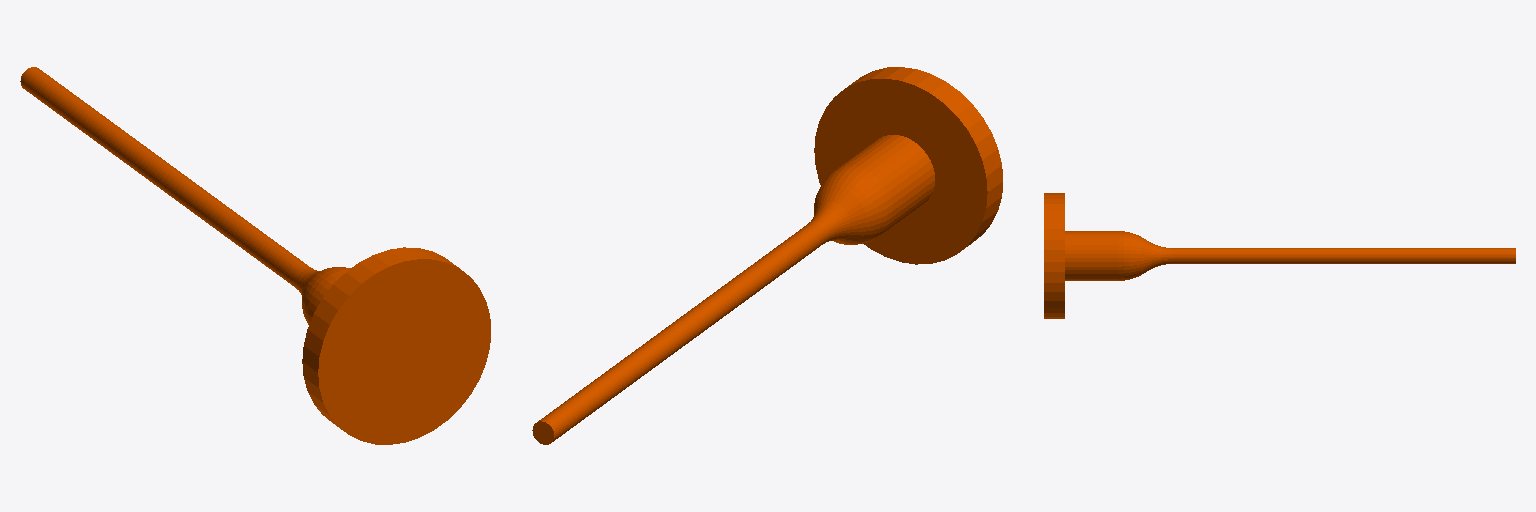
robot.urdf — ur:
<?xml version="1.0" ?>
<!-- =================================================================================== -->
<!-- |    This document was autogenerated by xacro from [local-path]/ros2_ws/install/ur_description/share/ur_description/urdf/ur.urdf.xacro | -->
<!-- |    EDITING THIS FILE BY HAND IS NOT RECOMMENDED                                 | -->
<!-- =================================================================================== -->
<robot name="ur">
  <!--
    Base UR robot series xacro macro.

    NOTE this is NOT a URDF. It cannot directly be loaded by consumers
    expecting a flattened '.urdf' file. See the top-level '.xacro' for that
    (but note that .xacro must still be processed by the xacro command).

    This file models the base kinematic chain of a UR robot, which then gets
    parameterised by various configuration files to convert it into a UR3(e),
    UR5(e), UR10(e) or UR16e.

    NOTE the default kinematic parameters (i.e., link lengths, frame locations,
    offsets, etc) do not correspond to any particular robot. They are defaults
    only. There WILL be non-zero offsets between the Forward Kinematics results
    in TF (i.e., robot_state_publisher) and the values reported by the Teach
    Pendant.

    For accurate (and robot-specific) transforms, the 'kinematics_parameters_file'
    parameter MUST point to a .yaml file containing the appropriate values for
    the targeted robot.

    If using the UniversalRobots/Universal_Robots_ROS_Driver, follow the steps
    described in the readme of that repository to extract the kinematic
    calibration from the controller and generate the required .yaml file.

    Main author of the migration to yaml configs [author].

    Contributors to previous versions (in no particular order)

     - [author]
     - [author]
     - [author]
     - [author]
     - [author]
     - [author]
     - [author]
     - [author]
     - [author]
     - [author]
     - [author]
     - [author]
     - [author]
     - [author]
     - [author]
     - [author]
     - [author]
     - [author]
     - [author]
  -->
  <!-- create link fixed to the "world" -->
  <link name="world"/>
  <!-- links -  main serial chain -->
  <link name="base_link"/>
  <link name="base_link_inertia">
    <visual>
      <origin rpy="0 0 3.141592653589793" xyz="0 0 0"/>
      <geometry>
        <mesh filename="package://ur_description/meshes/ur5e/visual/base.dae"/>
      </geometry>
    </visual>
    <collision>
      <origin rpy="0 0 3.141592653589793" xyz="0 0 0"/>
      <geometry>
        <mesh filename="package://ur_description/meshes/ur5e/collision/base.stl"/>
      </geometry>
    </collision>
    <inertial>
      <mass value="4.0"/>
      <origin rpy="0 0 0" xyz="0 0 0"/>
      <inertia ixx="0.00443333156" ixy="0.0" ixz="0.0" iyy="0.00443333156" iyz="0.0" izz="0.0072"/>
    </inertial>
  </link>
  <link name="shoulder_link">
    <visual>
      <origin rpy="0 0 3.141592653589793" xyz="0 0 0"/>
      <geometry>
        <mesh filename="package://ur_description/meshes/ur5e/visual/shoulder.dae"/>
      </geometry>
    </visual>
    <collision>
      <origin rpy="0 0 3.141592653589793" xyz="0 0 0"/>
      <geometry>
        <mesh filename="package://ur_description/meshes/ur5e/collision/shoulder.stl"/>
      </geometry>
    </collision>
    <inertial>
      <mass value="3.761"/>
      <origin rpy="0 0 0" xyz="0.0 -0.00193 -0.02561"/>
      <inertia ixx="0.010267499999999999" ixy="0" ixz="0" iyy="0.010267499999999999" iyz="0" izz="0.00666"/>
    </inertial>
  </link>
  <link name="upper_arm_link">
    <visual>
      <origin rpy="1.5707963267948966 0 -1.5707963267948966" xyz="0 0 0.138"/>
      <geometry>
        <mesh filename="package://ur_description/meshes/ur5e/visual/upperarm.dae"/>
      </geometry>
    </visual>
    <collision>
      <origin rpy="1.5707963267948966 0 -1.5707963267948966" xyz="0 0 0.138"/>
      <geometry>
        <mesh filename="package://ur_description/meshes/ur5e/collision/upperarm.stl"/>
      </geometry>
    </collision>
    <inertial>
      <mass value="8.058"/>
      <origin rpy="0 1.570796326794897 0" xyz="-0.2125 0.0 0.11336"/>
      <inertia ixx="0.13388583541666665" ixy="0" ixz="0" iyy="0.13388583541666665" iyz="0" izz="0.0151074"/>
    </inertial>
  </link>
  <link name="forearm_link">
    <visual>
      <origin rpy="1.5707963267948966 0 -1.5707963267948966" xyz="0 0 0.007"/>
      <geometry>
        <mesh filename="package://ur_description/meshes/ur5e/visual/forearm.dae"/>
      </geometry>
    </visual>
    <collision>
      <origin rpy="1.5707963267948966 0 -1.5707963267948966" xyz="0 0 0.007"/>
      <geometry>
        <mesh filename="package://ur_description/meshes/ur5e/collision/forearm.stl"/>
      </geometry>
    </collision>
    <inertial>
      <mass value="2.846"/>
      <origin rpy="0 1.570796326794897 0" xyz="-0.2422 0.0 0.0265"/>
      <inertia ixx="0.03120936758333333" ixy="0" ixz="0" iyy="0.03120936758333333" iyz="0" izz="0.004095"/>
    </inertial>
  </link>
  <link name="wrist_1_link">
    <visual>
      <origin rpy="1.5707963267948966 0 0" xyz="0 0 -0.127"/>
      <geometry>
        <mesh filename="package://ur_description/meshes/ur5e/visual/wrist1.dae"/>
      </geometry>
    </visual>
    <collision>
      <origin rpy="1.5707963267948966 0 0" xyz="0 0 -0.127"/>
      <geometry>
        <mesh filename="package://ur_description/meshes/ur5e/collision/wrist1.stl"/>
      </geometry>
    </collision>
    <inertial>
      <mass value="1.37"/>
      <origin rpy="0 0 0" xyz="0.0 -0.01634 -0.0018"/>
      <inertia ixx="0.0025599" ixy="0" ixz="0" iyy="0.0025599" iyz="0" izz="0.0021942"/>
    </inertial>
  </link>
  <link name="wrist_2_link">
    <visual>
      <origin rpy="0 0 0" xyz="0 0 -0.0997"/>
      <geometry>
        <mesh filename="package://ur_description/meshes/ur5e/visual/wrist2.dae"/>
      </geometry>
    </visual>
    <collision>
      <origin rpy="0 0 0" xyz="0 0 -0.0997"/>
      <geometry>
        <mesh filename="package://ur_description/meshes/ur5e/collision/wrist2.stl"/>
      </geometry>
    </collision>
    <inertial>
      <mass value="1.3"/>
      <origin rpy="0 0 0" xyz="0.0 0.01634 -0.0018"/>
      <inertia ixx="0.0025599" ixy="0" ixz="0" iyy="0.0025599" iyz="0" izz="0.0021942"/>
    </inertial>
  </link>
  <link name="wrist_3_link">
    <visual>
      <origin rpy="1.5707963267948966 0 0" xyz="0 0 -0.0989"/>
      <geometry>
        <mesh filename="package://ur_description/meshes/ur5e/visual/wrist3.dae"/>
      </geometry>
    </visual>
    <collision>
      <origin rpy="1.5707963267948966 0 0" xyz="0 0 -0.0989"/>
      <geometry>
        <mesh filename="package://ur_description/meshes/ur5e/collision/wrist3.stl"/>
      </geometry>
    </collision>
    <inertial>
      <mass value="0.365"/>
      <origin rpy="0 0 0" xyz="0.0 0.0 -0.001159"/>
      <inertia ixx="9.890414008333333e-05" ixy="0" ixz="0" iyy="9.890414008333333e-05" iyz="0" izz="0.0001321171875"/>
    </inertial>
  </link>
  <!-- base_joint fixes base_link to the environment -->
  <joint name="base_joint" type="fixed">
    <origin rpy="0 0 0" xyz="0 0 0"/>
    <parent link="world"/>
    <child link="base_link"/>
  </joint>
  <!-- joints - main serial chain -->
  <joint name="base_link-base_link_inertia" type="fixed">
    <parent link="base_link"/>
    <child link="base_link_inertia"/>
    <!-- 'base_link' is REP-103 aligned (so X+ forward), while the internal
           frames of the robot/controller have X+ pointing backwards.
           Use the joint between 'base_link' and 'base_link_inertia' (a dummy
           link/frame) to introduce the necessary rotation over Z (of pi rad).
      -->
    <origin rpy="0 0 3.141592653589793" xyz="0 0 0"/>
  </joint>
  <joint name="shoulder_pan_joint" type="revolute">
    <parent link="base_link_inertia"/>
    <child link="shoulder_link"/>
    <origin rpy="0 0 0" xyz="0 0 0.1625"/>
    <axis xyz="0 0 1"/>
    <limit effort="150.0" lower="-6.283185307179586" upper="6.283185307179586" velocity="3.141592653589793"/>
    <safety_controller k_position="20" k_velocity="0.0" soft_lower_limit="-6.133185307179586" soft_upper_limit="6.133185307179586"/>
    <dynamics damping="0" friction="0"/>
  </joint>
  <joint name="shoulder_lift_joint" type="revolute">
    <parent link="shoulder_link"/>
    <child link="upper_arm_link"/>
    <origin rpy="1.570796327 0 0" xyz="0 0 0"/>
    <axis xyz="0 0 1"/>
    <limit effort="150.0" lower="-6.283185307179586" upper="6.283185307179586" velocity="3.141592653589793"/>
    <safety_controller k_position="20" k_velocity="0.0" soft_lower_limit="-6.133185307179586" soft_upper_limit="6.133185307179586"/>
    <dynamics damping="0" friction="0"/>
  </joint>
  <joint name="elbow_joint" type="revolute">
    <parent link="upper_arm_link"/>
    <child link="forearm_link"/>
    <origin rpy="0 0 0" xyz="-0.425 0 0"/>
    <axis xyz="0 0 1"/>
    <limit effort="150.0" lower="-3.141592653589793" upper="3.141592653589793" velocity="3.141592653589793"/>
    <safety_controller k_position="20" k_velocity="0.0" soft_lower_limit="-2.991592653589793" soft_upper_limit="2.991592653589793"/>
    <dynamics damping="0" friction="0"/>
  </joint>
  <joint name="wrist_1_joint" type="revolute">
    <parent link="forearm_link"/>
    <child link="wrist_1_link"/>
    <origin rpy="0 0 0" xyz="-0.3922 0 0.1333"/>
    <axis xyz="0 0 1"/>
    <limit effort="28.0" lower="-6.283185307179586" upper="6.283185307179586" velocity="3.141592653589793"/>
    <safety_controller k_position="20" k_velocity="0.0" soft_lower_limit="-6.133185307179586" soft_upper_limit="6.133185307179586"/>
    <dynamics damping="0" friction="0"/>
  </joint>
  <joint name="wrist_2_joint" type="revolute">
    <parent link="wrist_1_link"/>
    <child link="wrist_2_link"/>
    <origin rpy="1.570796327 0 0" xyz="0 -0.0997 -2.044881182297852e-11"/>
    <axis xyz="0 0 1"/>
    <limit effort="28.0" lower="-6.283185307179586" upper="6.283185307179586" velocity="3.141592653589793"/>
    <safety_controller k_position="20" k_velocity="0.0" soft_lower_limit="-6.133185307179586" soft_upper_limit="6.133185307179586"/>
    <dynamics damping="0" friction="0"/>
  </joint>
  <joint name="wrist_3_joint" type="revolute">
    <parent link="wrist_2_link"/>
    <child link="wrist_3_link"/>
    <origin rpy="1.570796326589793 3.141592653589793 3.141592653589793" xyz="0 0.0996 -2.042830148012698e-11"/>
    <axis xyz="0 0 1"/>
    <limit effort="28.0" lower="-6.283185307179586" upper="6.283185307179586" velocity="3.141592653589793"/>
    <safety_controller k_position="20" k_velocity="0.0" soft_lower_limit="-6.133185307179586" soft_upper_limit="6.133185307179586"/>
    <dynamics damping="0" friction="0"/>
  </joint>
  <link name="ft_frame"/>
  <joint name="wrist_3_link-ft_frame" type="fixed">
    <parent link="wrist_3_link"/>
    <child link="ft_frame"/>
    <origin rpy="3.141592653589793 0 0" xyz="0 0 0"/>
  </joint>
  <!-- ROS-Industrial 'base' frame - base_link to UR 'Base' Coordinates transform -->
  <link name="base"/>
  <joint name="base_link-base_fixed_joint" type="fixed">
    <!-- Note the rotation over Z of pi radians - as base_link is REP-103
           aligned (i.e., has X+ forward, Y+ left and Z+ up), this is needed
           to correctly align 'base' with the 'Base' coordinate system of
           the UR controller.
      -->
    <origin rpy="0 0 3.141592653589793" xyz="0 0 0"/>
    <parent link="base_link"/>
    <child link="base"/>
  </joint>
  <!-- ROS-Industrial 'flange' frame - attachment point for EEF models -->
  <link name="flange"/>
  <joint name="wrist_3-flange" type="fixed">
    <parent link="wrist_3_link"/>
    <child link="flange"/>
    <origin rpy="0 -1.5707963267948966 -1.5707963267948966" xyz="0 0 0"/>
  </joint>
  <!-- ROS-Industrial 'tool0' frame - all-zeros tool frame -->
  <link name="tool0"/>
  <joint name="flange-tool0" type="fixed">
    <!-- default toolframe - X+ left, Y+ up, Z+ front -->
    <origin rpy="1.5707963267948966 0 1.5707963267948966" xyz="0 0 0"/>
    <parent link="flange"/>
    <child link="tool0"/>
  </joint>
  <joint name="robot_surgical_tool_joint" type="fixed">
    <parent link="tool0"/>
    <child link="robot_surgical_tool"/>
    <origin rpy="0 0 0" xyz="0 0 0"/>
  </joint>
  <!-- sub-link defining detailed meshes for collision with environment -->
  <link name="robot_surgical_tool">
    <visual name="robot_surgical_tool_visual">
      <geometry>
        <mesh filename="package://ur_description/meshes/robot_ee/surgical_tool/visual/surgical_tool.dae"/>
      </geometry>
    </visual>
    <collision name="robot_surgical_tool_collision">
      <geometry>
        <mesh filename="package://ur_description/meshes/robot_ee/surgical_tool/collision/surgical_tool.stl"/>
      </geometry>
    </collision>
    <inertial>
      <origin rpy="0 0 0" xyz="0 0 0.007"/>
      <mass value="0.4"/>
      <inertia ixx="1e-06" ixy="0" ixz="0" iyy="1e-06" iyz="0" izz="1e-06"/>
    </inertial>
  </link>
  <!-- Define the ${ee_id}_tcp frame -->
  <link name="robot_surgical_tool_tcp"/>
  <joint name="robot_surgical_tool_tcp_joint" type="fixed">
    <origin rpy="0 0 0" xyz="0 0 0.235"/>
    <parent link="robot_surgical_tool"/>
    <child link="robot_surgical_tool_tcp"/>
  </joint>
</robot>

--- What the picture shows (computed from the rendered views, not written in the file) ---
3 views of the same robot in one strip: view 1: azimuth 30°, elevation 25°; view 2: azimuth 150°, elevation 25°; view 3: azimuth 270°, elevation 25° (orthographic).
Robot: ur — 15 links, 14 joints (6 revolute, 8 fixed); root link world; default pose: all joints at 0.
Links seen in each view (by area): view 1: robot_surgical_tool; view 2: robot_surgical_tool; view 3: robot_surgical_tool.
Link boxes in pixels (x1,y1,x2,y2): robot_surgical_tool: [20, 67, 490, 444]; robot_surgical_tool: [532, 67, 1002, 444]; robot_surgical_tool: [1044, 193, 1515, 318].
Bounding box of the posed robot: 0.063 × 0.235 × 0.063 m (x, y, z).
1 mesh visuals loaded from 8 distinct referenced files (1 Collada DAE); not drawn: 7 (reference not matched to a file when rendering).